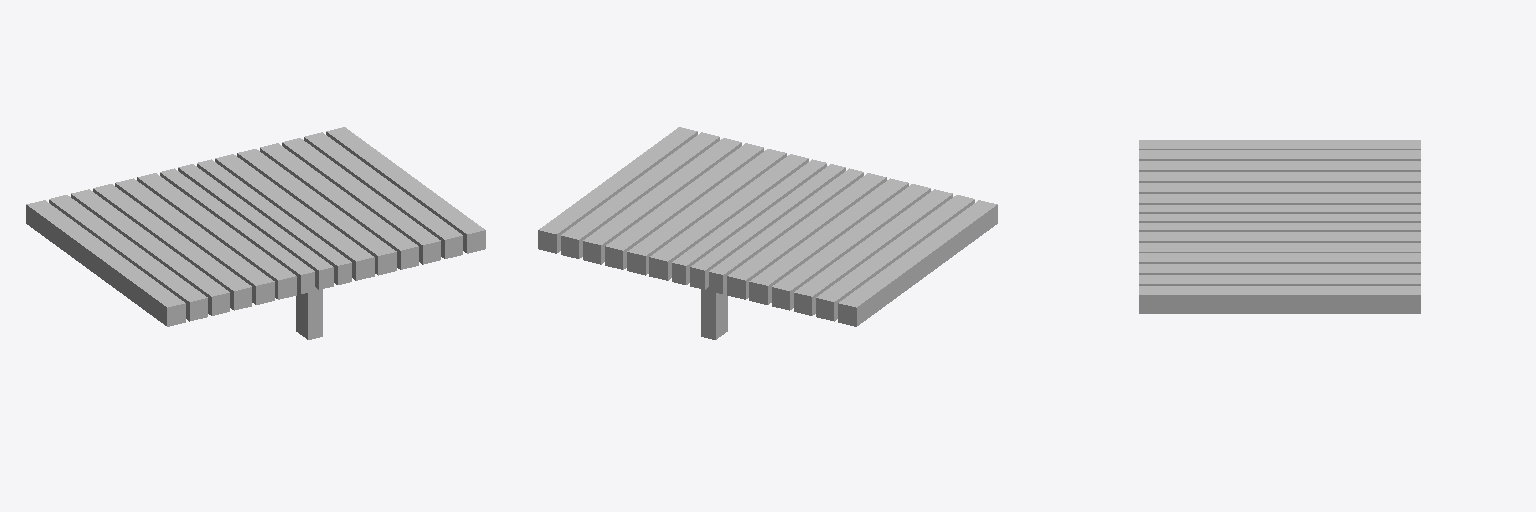
File: planks.obj
The picture shows the model from 3 angles: view 1: azimuth 30°, elevation 25°; view 2: azimuth 150°, elevation 25°; view 3: azimuth 270°, elevation 25°; orthographic projection.
Parts seen in each view (by area): view 1: planks; view 2: planks; view 3: planks.
Boxes of the visible parts, x1,y1,x2,y2 form: planks: [26, 127, 485, 339]; planks: [538, 127, 997, 339]; planks: [1139, 140, 1420, 313].
Size of the model in its own units: 86 by 20 by 66.